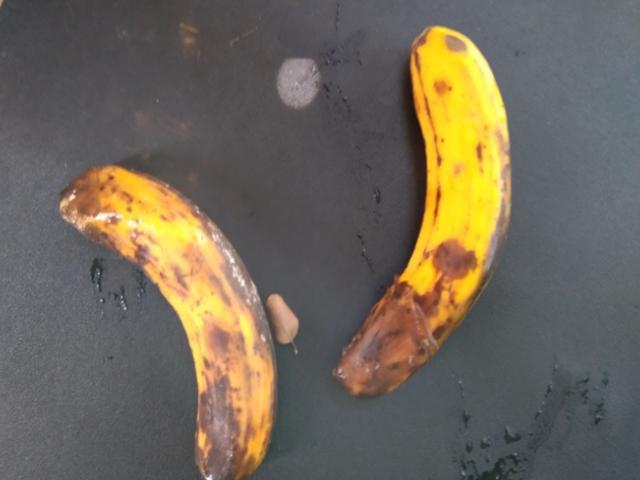rotten: (303, 0, 534, 424), (46, 152, 264, 479)
